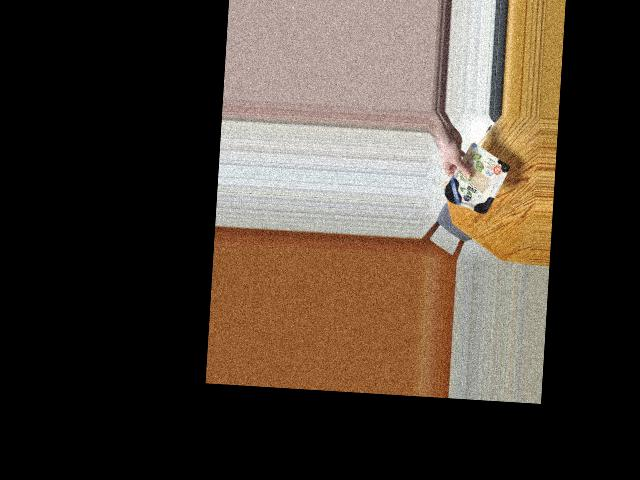cheese: (439, 148, 507, 215)
